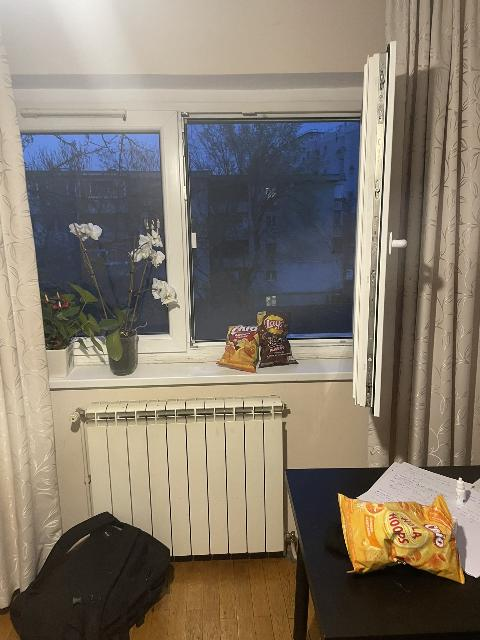Chio Cascaval 125g: (215, 324, 261, 373)
Chio Hula Hoops Cheese 70g: (335, 491, 458, 582)
Lays Beef Grilled Ribs 125g: (256, 311, 298, 368)
